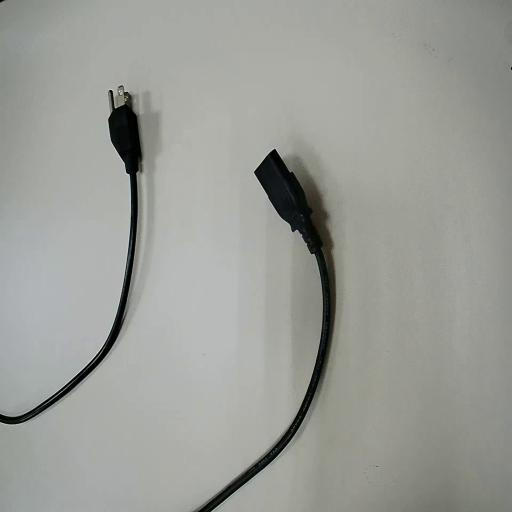wire: (199, 150, 334, 511), (0, 94, 141, 423)
